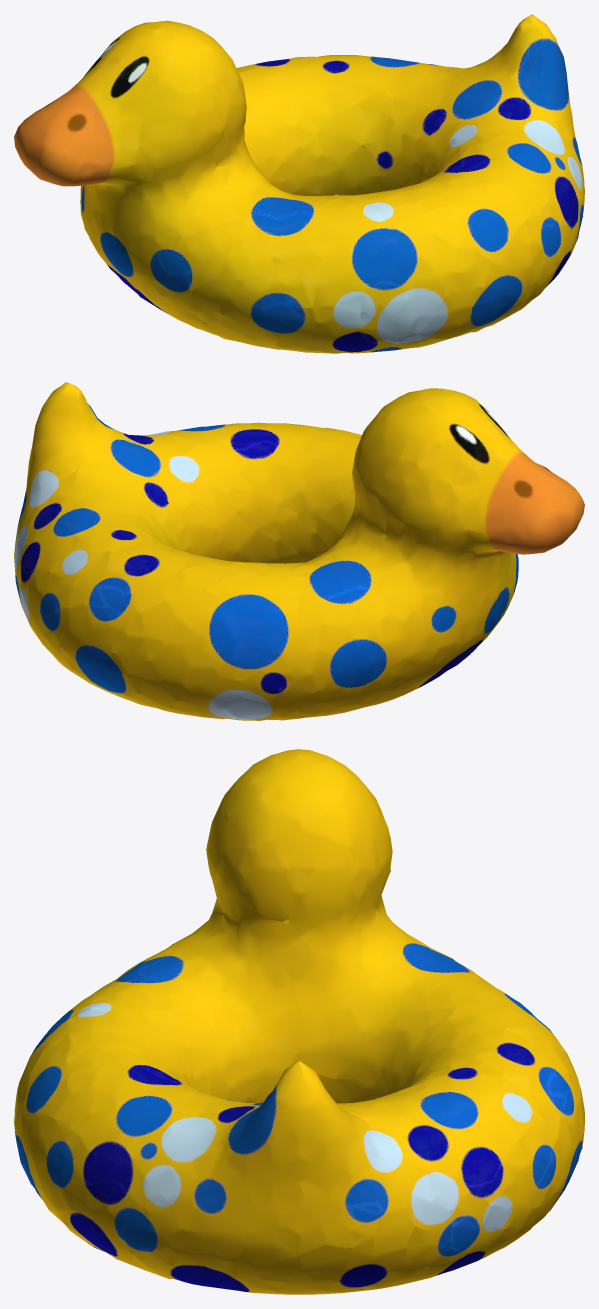
The picture shows the model from 3 angles, top to bottom: view 1: azimuth 30°, elevation 25°; view 2: azimuth 150°, elevation 25°; view 3: azimuth 270°, elevation 25°; orthographic projection. The views are drawn at different scales.
Visible parts, largest first — view 1: pMesh1; view 2: pMesh1; view 3: pMesh1.
Part boxes in pixels (left/top/right/bottom): pMesh1: left=14, top=14, right=584, bottom=353; pMesh1: left=14, top=382, right=584, bottom=720; pMesh1: left=14, top=749, right=584, bottom=1294.
Bounding box in the file's own units: 1.86 × 0.9756 × 1.46.
1 material, 1 textured.
